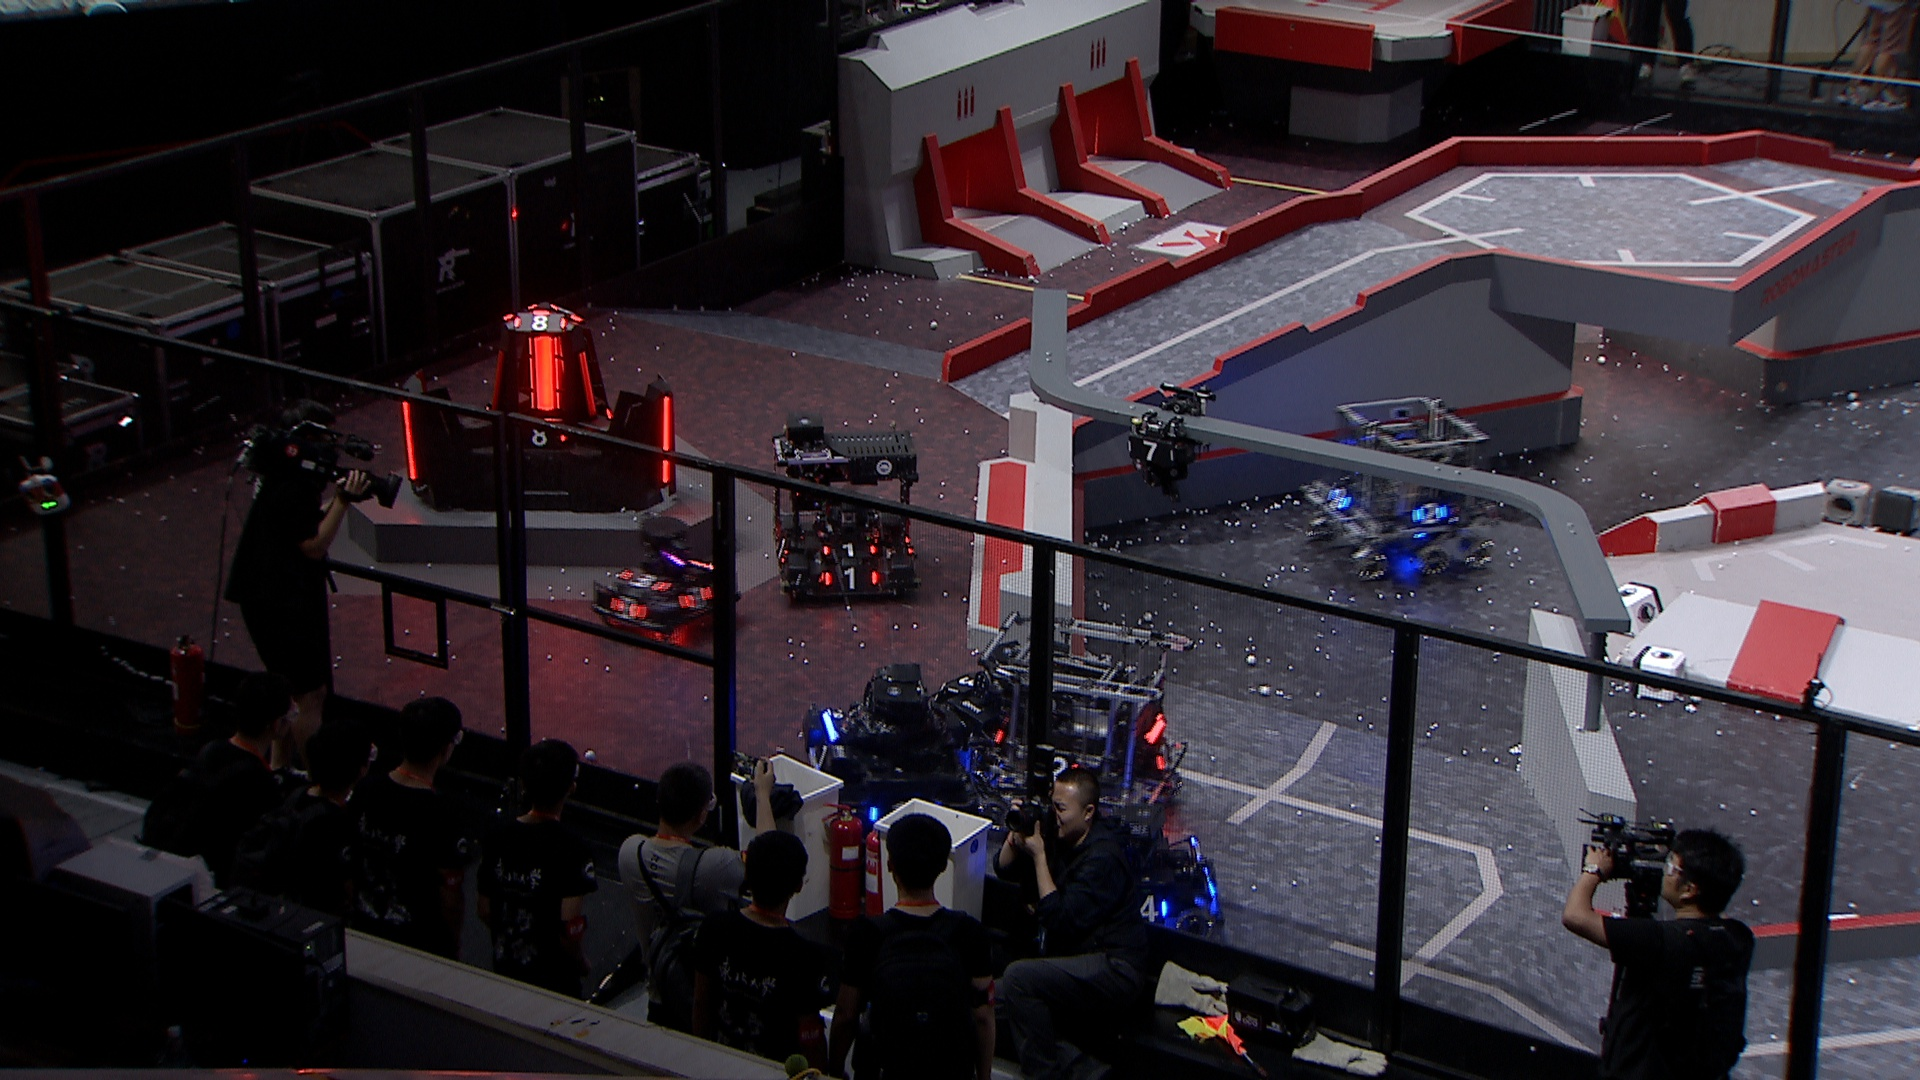armor: (527, 334, 564, 410), (657, 392, 676, 483), (400, 396, 419, 481), (818, 566, 880, 589), (1127, 436, 1178, 465), (576, 352, 599, 415), (618, 568, 669, 595), (487, 348, 505, 410), (510, 315, 567, 335), (1048, 752, 1081, 785), (1408, 502, 1451, 527), (1134, 894, 1171, 922), (822, 542, 880, 559), (944, 669, 978, 698), (678, 584, 717, 609), (607, 595, 647, 618), (520, 429, 570, 447), (811, 736, 836, 773), (1324, 484, 1353, 514), (1155, 742, 1178, 773), (770, 534, 790, 562)
base: (396, 297, 679, 514)
car: (965, 609, 1197, 835), (1300, 392, 1501, 585), (800, 659, 981, 839), (765, 407, 924, 600), (1069, 804, 1229, 945), (585, 513, 738, 642), (913, 641, 1062, 771)
watcher: (1125, 380, 1218, 501)
